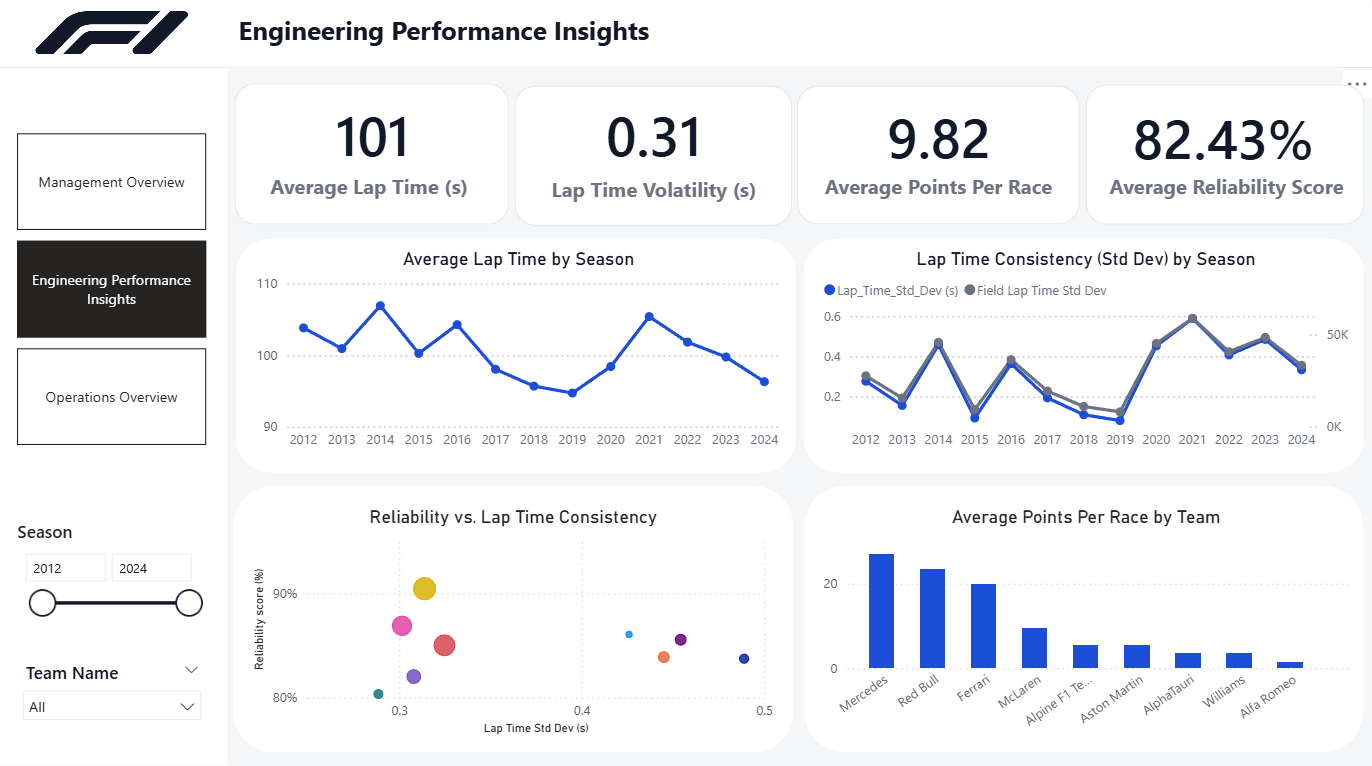

The page's visual inventory and layout, read from the dashboard file:
{"tool":"powerbi","page":{"name":"Engineering Performance Insights","canvas":[1280,720],"ordinal":1},"visuals":[{"type":"shape","box":[0,49.9,214.3,669.8],"z":0},{"type":"shape","box":[221.3,85.5,255.3,131.6],"z":0,"group":"g1"},{"type":"shape","box":[1012.6,87.1,259.2,130.5],"z":0,"group":"g3"},{"type":"shape","box":[481.9,87.6,258.2,130.3],"z":0,"group":"g2"},{"type":"shape","box":[743.8,88.2,262.8,129.1],"z":0,"group":"g4"},{"type":"shape","box":[0,0,1280.3,71.4],"z":1000},{"type":"card","title":"T","fields":{"Values":["public vw_engineering_kpis.AVG_Lap_Time(s)"]},"box":[222.4,82.6,255.3,98.4],"z":1000,"group":"g1"},{"type":"card","title":"T","fields":{"Values":["public vw_engineering_kpis.Lap_Time_Std_Dev(s)"]},"box":[483.1,82.6,257.6,97.8],"z":1000,"group":"g2"},{"type":"card","title":"T","fields":{"Values":["public vw_management_kpis.avg_points_per_race"]},"box":[744.9,85.4,262.8,96.6],"z":1000,"group":"g4"},{"type":"card","title":"T","fields":{"Values":["public vw_management_kpis.avg_reliability"]},"box":[1011.3,85.4,259.1,97.8],"z":1000,"group":"g3"},{"type":"textbox","box":[219.7,13.5,845,47.2],"z":2000},{"type":"textbox","box":[233.5,162.3,227.2,34.6],"z":2000,"group":"g1"},{"type":"textbox","box":[751.1,163.2,249.3,37.8],"z":2000,"group":"g4"},{"type":"textbox","box":[1019.2,163.2,247.9,42],"z":2000,"group":"g3"},{"type":"textbox","box":[495.3,165.8,231.5,38.4],"z":2000,"group":"g2"},{"type":"shape","box":[221.9,228.7,521.5,218.2],"z":3000,"group":"g5"},{"type":"shape","box":[750.2,228.7,521.5,218.2],"z":3000,"group":"g6"},{"type":"shape","box":[219.9,459.4,521.1,247.9],"z":3000},{"type":"group","id":"g1","title":"Group 1","box":[221.3,82.6,256.3,134.5],"z":4000},{"type":"group","id":"g2","title":"Group 1","box":[481.9,82.6,257.7,134.5],"z":5000},{"type":"group","id":"g3","title":"Group 1","box":[1011.3,85.4,260.5,132.2],"z":6000},{"type":"group","id":"g4","title":"Group 1","box":[743.8,85.4,263.9,131.9],"z":7000},{"type":"group","id":"g5","title":"Group 2","box":[221.9,228.7,521.5,218.3],"z":8000},{"type":"group","id":"g6","title":"Group 2","box":[750.2,228.7,521.5,218.3],"z":9000},{"type":"lineChart","title":"Average Lap Time by Season","fields":{"Category":["public dim_race.season"],"Y":["public vw_engineering_kpis.AVG_Lap_Time(s)"]},"box":[235.6,238.3,498.3,196.2],"z":9000,"group":"g5"},{"type":"lineChart","title":"Lap Time Consistency (Std Dev) by Season","fields":{"Category":["public dim_race.season"],"Y":["public vw_engineering_kpis.Lap_Time_Std_Dev (s)"],"Y2":["public vw_engineering_kpis.Field Lap Time Std Dev"]},"box":[763.9,238.3,498.3,196.2],"z":9000,"group":"g6"},{"type":"slicer","title":"Season","fields":{"Values":["public dim_race.season"]},"box":[13.5,490.5,186,95.7],"z":10000},{"type":"slicer","fields":{"Values":["public dim_constructor.team_name"]},"box":[13.5,615.9,186,68.7],"z":11000},{"type":"image","box":[27,5.4,160.4,60.6],"z":12000},{"type":"scatterChart","title":"Reliability vs. Lap Time Consistency","fields":{"X":["public vw_engineering_kpis.Lap_Time_Std_Dev (s)"],"Y":["public vw_management_kpis.avg_reliability"],"Size":["public vw_management_kpis.avg_points_per_race"],"Series":["public dim_constructor.team_name"],"Category":["public dim_constructor.is_core_team"]},"box":[233.9,477.7,493.1,218.5],"z":13000},{"type":"shape","box":[750.8,459.4,519.7,247.9],"z":14000},{"type":"clusteredColumnChart","title":"Average Points Per Race by Team","fields":{"Category":["public dim_constructor.team_name"],"Y":["public vw_engineering_kpis.Selected Team Points","public vw_engineering_kpis.Other Teams Points"]},"box":[763.4,477.7,498.7,218.5],"z":15000},{"type":"pageNavigator","box":[18.6,131.4,176.7,290.7],"z":16000}]}

Visuals, with their boxes on the page's 1280x720 design canvas (x1, y1, x2, y2). These are canvas units, not pixel positions in the 1372x766 screenshot, which may show the page scaled, cropped or inside an application window:
shape: rect(0, 50, 214, 720)
shape: rect(221, 86, 477, 217)
shape: rect(1013, 87, 1272, 218)
shape: rect(482, 88, 740, 218)
shape: rect(744, 88, 1007, 217)
shape: rect(0, 0, 1280, 71)
"T" card: rect(222, 83, 478, 181)
"T" card: rect(483, 83, 741, 180)
"T" card: rect(745, 85, 1008, 182)
"T" card: rect(1011, 85, 1270, 183)
textbox: rect(220, 14, 1065, 61)
textbox: rect(234, 162, 461, 197)
textbox: rect(751, 163, 1000, 201)
textbox: rect(1019, 163, 1267, 205)
textbox: rect(495, 166, 727, 204)
shape: rect(222, 229, 743, 447)
shape: rect(750, 229, 1272, 447)
shape: rect(220, 459, 741, 707)
"Group 1" group: rect(221, 83, 478, 217)
"Group 1" group: rect(482, 83, 740, 217)
"Group 1" group: rect(1011, 85, 1272, 218)
"Group 1" group: rect(744, 85, 1008, 217)
"Group 2" group: rect(222, 229, 743, 447)
"Group 2" group: rect(750, 229, 1272, 447)
"Average Lap Time by Season" lineChart: rect(236, 238, 734, 434)
"Lap Time Consistency (Std Dev) by Season" lineChart: rect(764, 238, 1262, 434)
"Season" slicer: rect(14, 490, 200, 586)
slicer - public dim_constructor.team_name: rect(14, 616, 200, 685)
image: rect(27, 5, 187, 66)
"Reliability vs. Lap Time Consistency" scatterChart: rect(234, 478, 727, 696)
shape: rect(751, 459, 1270, 707)
"Average Points Per Race by Team" clusteredColumnChart: rect(763, 478, 1262, 696)
pageNavigator: rect(19, 131, 195, 422)
